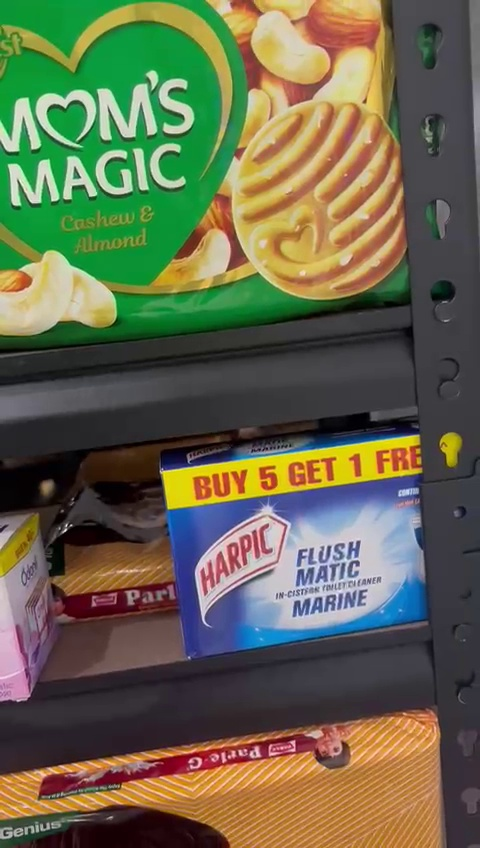Harpic: (168, 446, 431, 638)
